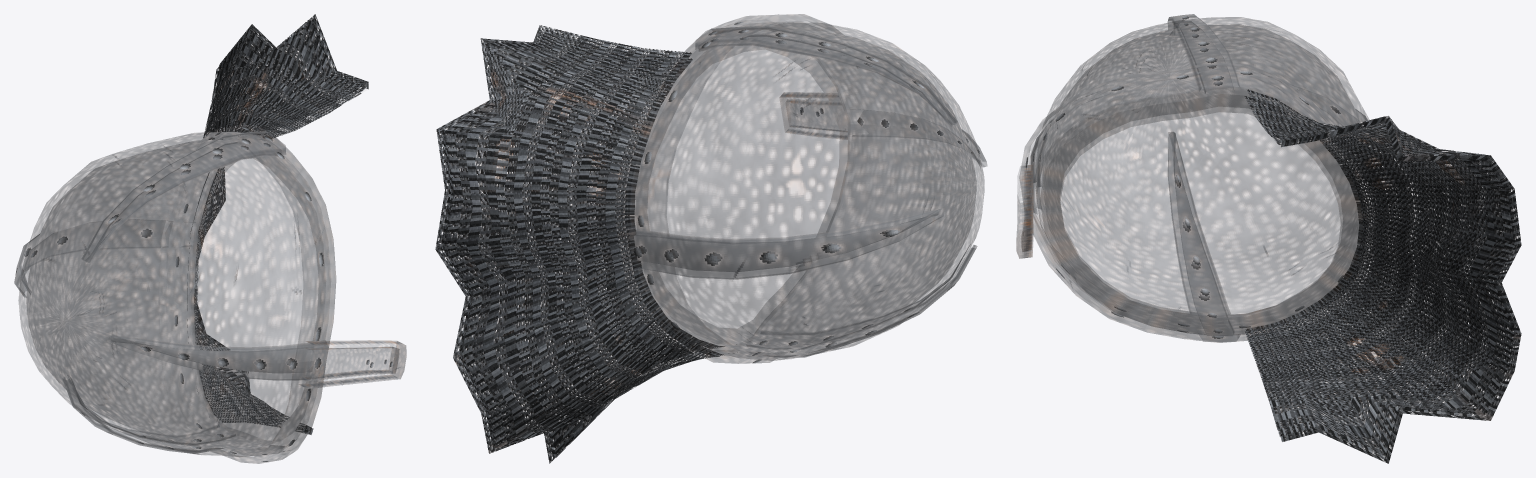
Rendered from casque_fer.glb.
The picture shows the model from 3 angles, left to right: view 1: azimuth 30°, elevation 25°; view 2: azimuth 150°, elevation 25°; view 3: azimuth 270°, elevation 25°; orthographic projection. The views are drawn at different scales.
Visible parts, largest first — view 1: casque_fer.001; view 2: casque_fer.001; view 3: casque_fer.001.
Part boxes in pixels (left/top/right/bottom): casque_fer.001: left=14, top=14, right=406, bottom=463; casque_fer.001: left=435, top=14, right=987, bottom=463; casque_fer.001: left=1016, top=14, right=1521, bottom=463.
Bounding box in the file's own units: 0.2744 × 0.2789 × 0.3365.
Materials: 2 (2 with a texture image).
